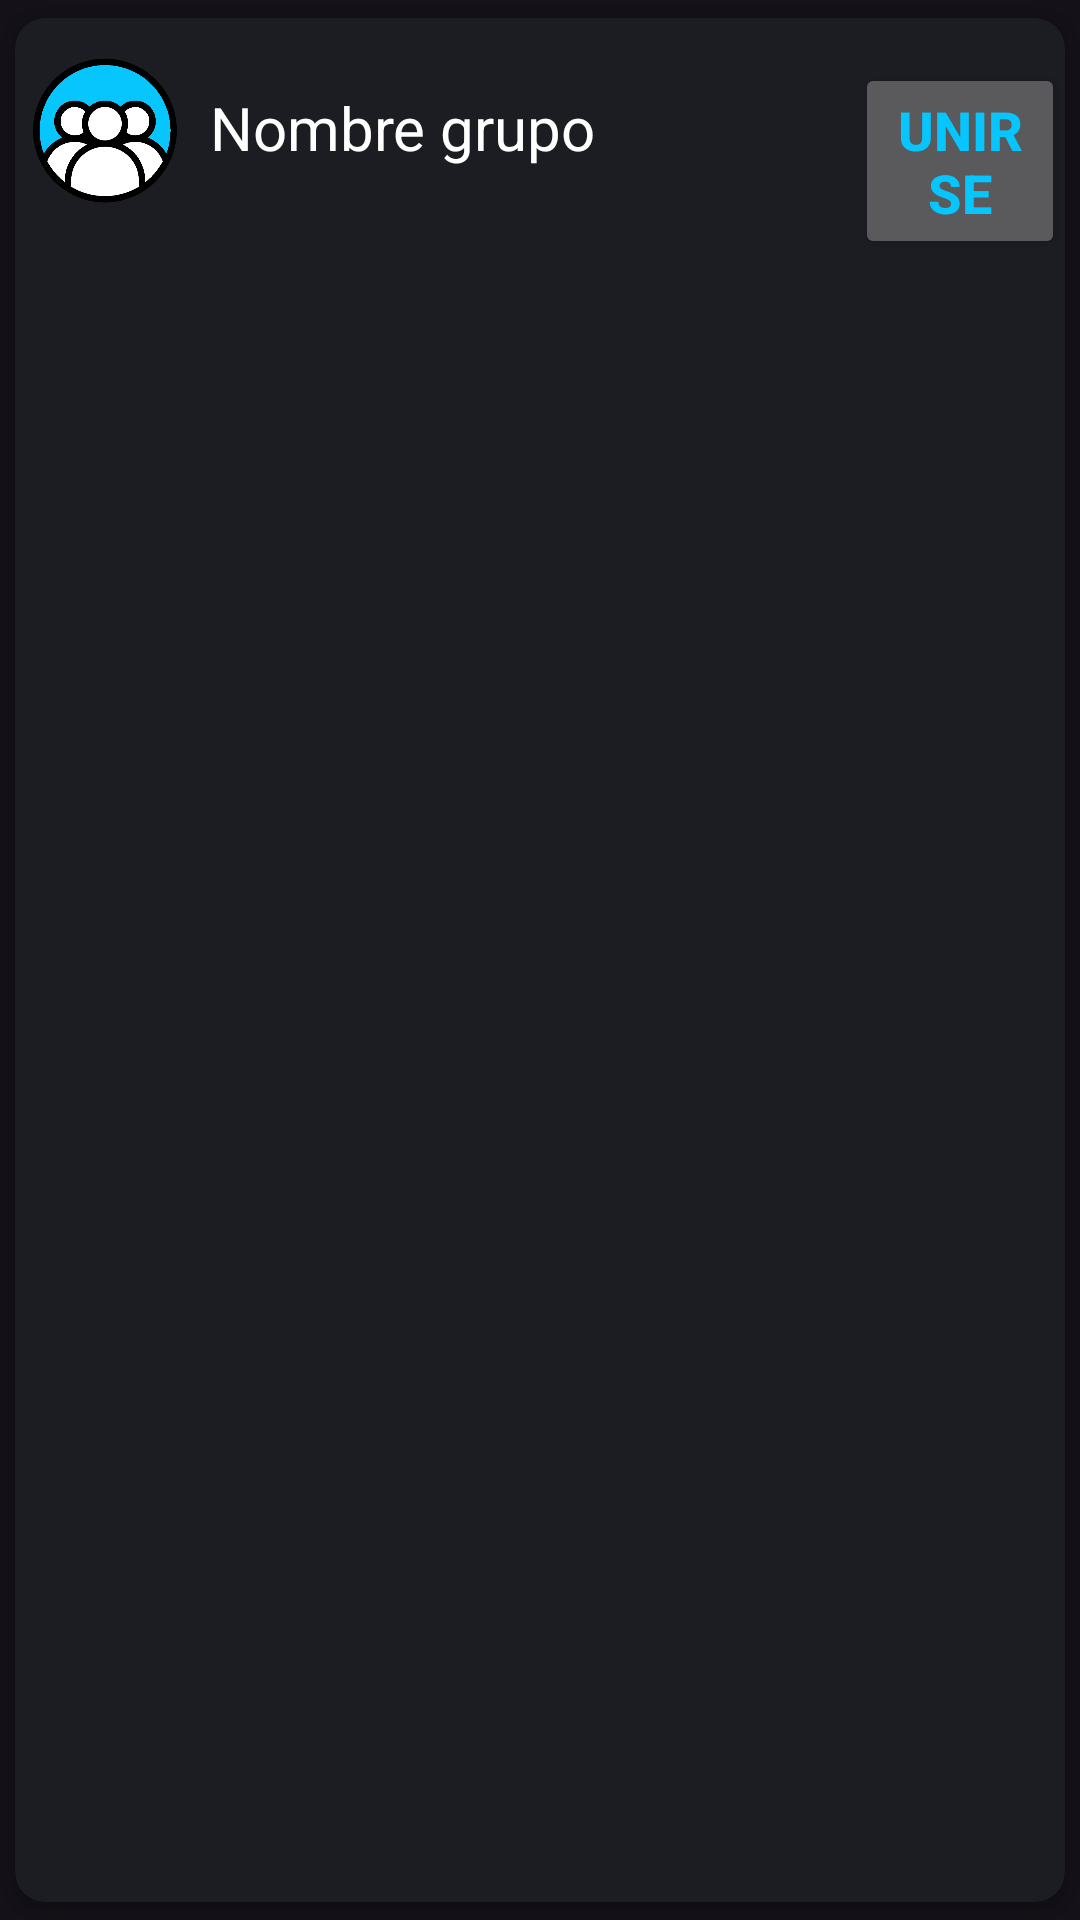

Screen size 1080w x 1920h. Icon name, then its center in pixels as (x=x, y=y):
grupos: (x=105, y=130)
